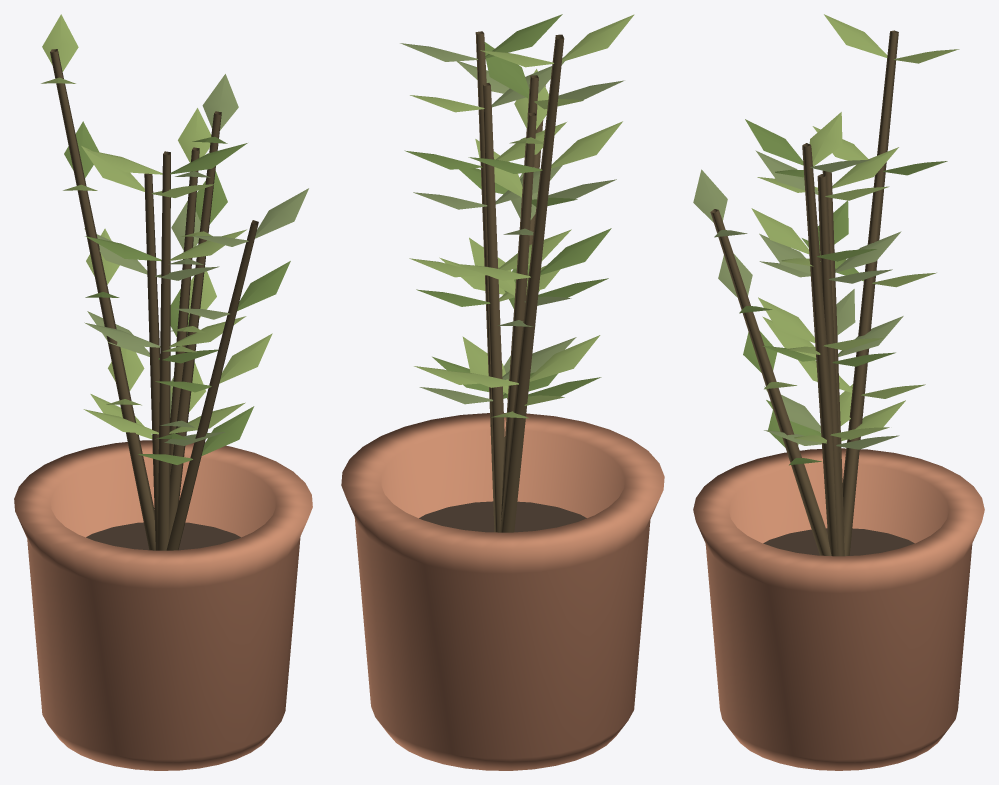
The model's file is plant_herb.glb.
The picture shows the model from 3 angles, left to right: view 1: azimuth 30°, elevation 25°; view 2: azimuth 150°, elevation 25°; view 3: azimuth 270°, elevation 25°; orthographic projection. The views are drawn at different scales.
Visible parts, largest first — view 1: plant_herb_pot, plant_herb_leaves, plant_herb_stems, plant_herb_soil; view 2: plant_herb_pot, plant_herb_leaves, plant_herb_stems, plant_herb_soil; view 3: plant_herb_pot, plant_herb_leaves, plant_herb_stems, plant_herb_soil.
Boxes of the visible parts, bbox=[...] form: plant_herb_pot: bbox=[14, 440, 312, 770]; plant_herb_leaves: bbox=[41, 14, 308, 464]; plant_herb_stems: bbox=[50, 49, 258, 550]; plant_herb_soil: bbox=[86, 522, 240, 550]; plant_herb_pot: bbox=[341, 413, 664, 770]; plant_herb_leaves: bbox=[400, 14, 634, 418]; plant_herb_stems: bbox=[475, 31, 564, 532]; plant_herb_soil: bbox=[419, 501, 586, 532]; plant_herb_pot: bbox=[693, 448, 984, 770]; plant_herb_leaves: bbox=[693, 14, 959, 465]; plant_herb_stems: bbox=[710, 30, 898, 556]; plant_herb_soil: bbox=[763, 528, 914, 555].
Bounding box in the file's own units: 0.098 × 0.2437 × 0.098.
